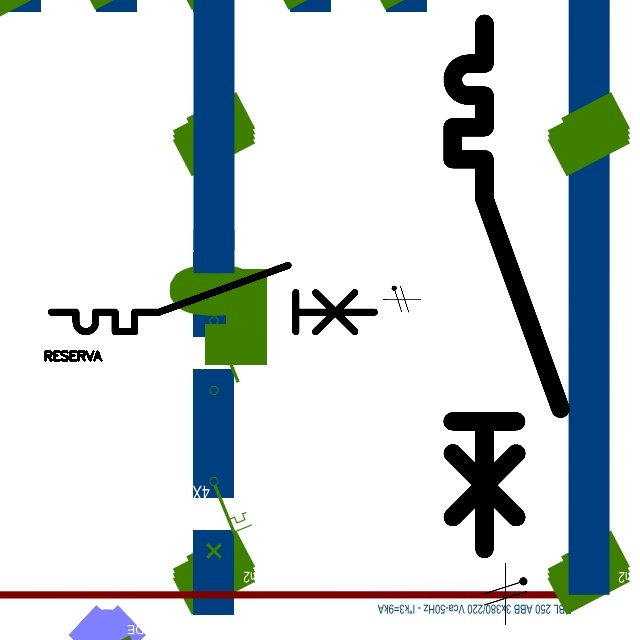interruptor_termomagnetico: (439, 10, 574, 562), (43, 257, 382, 340)
